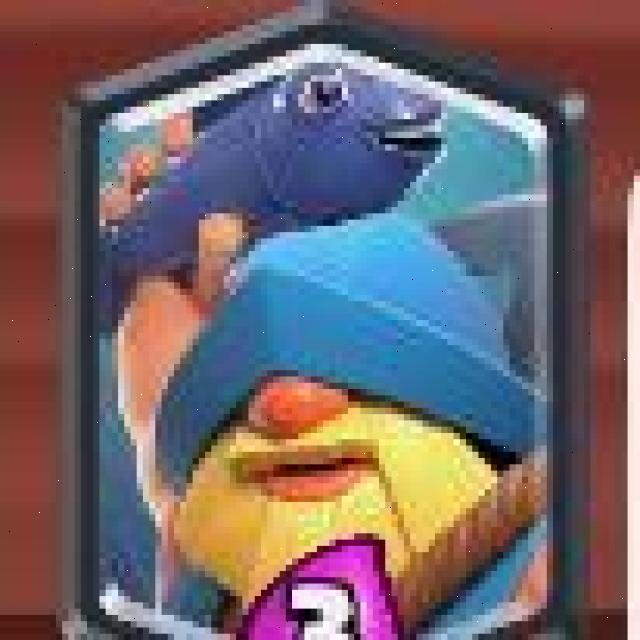Fisherman: (56, 5, 567, 640)
